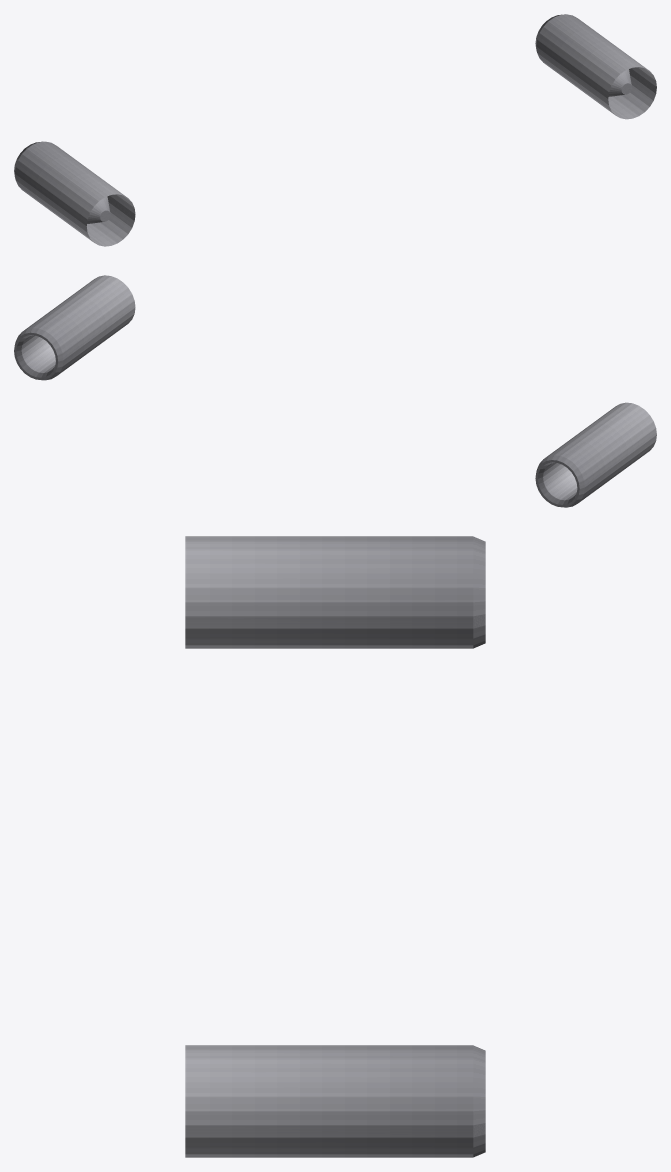
Rendered from exhaust_dual.obj.
3 renders of one model, top to bottom at view 1: azimuth 30°, elevation 25°; view 2: azimuth 150°, elevation 25°; view 3: azimuth 270°, elevation 25°, orthographic. The views are drawn at different scales.
Bounding box in the file's own units: 1.01 × 0.086 × 0.2293.
1 material, 1 textured.
